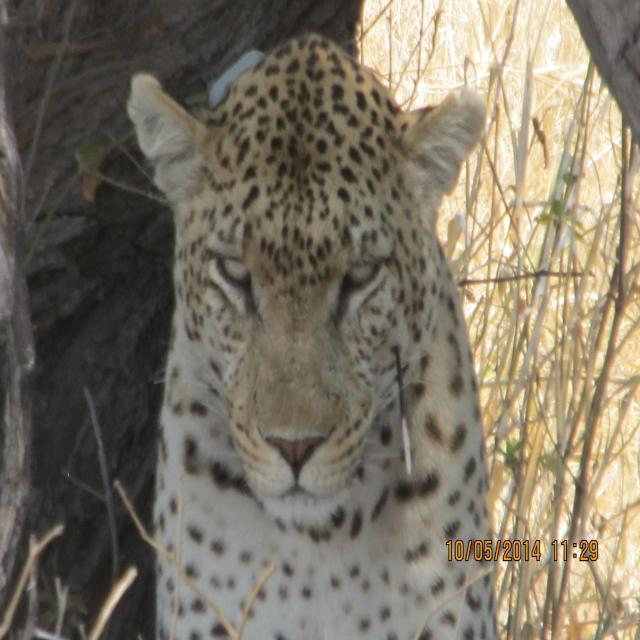Leopard: (60, 26, 551, 640)
